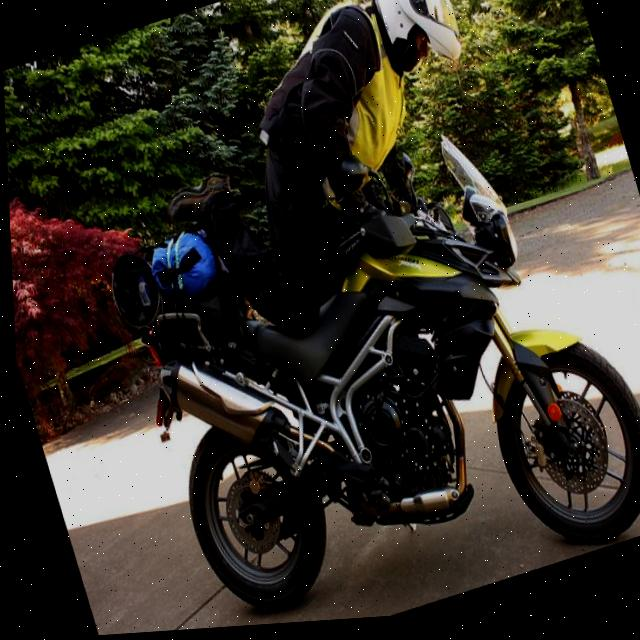motorcycle: (88, 89, 640, 635)
